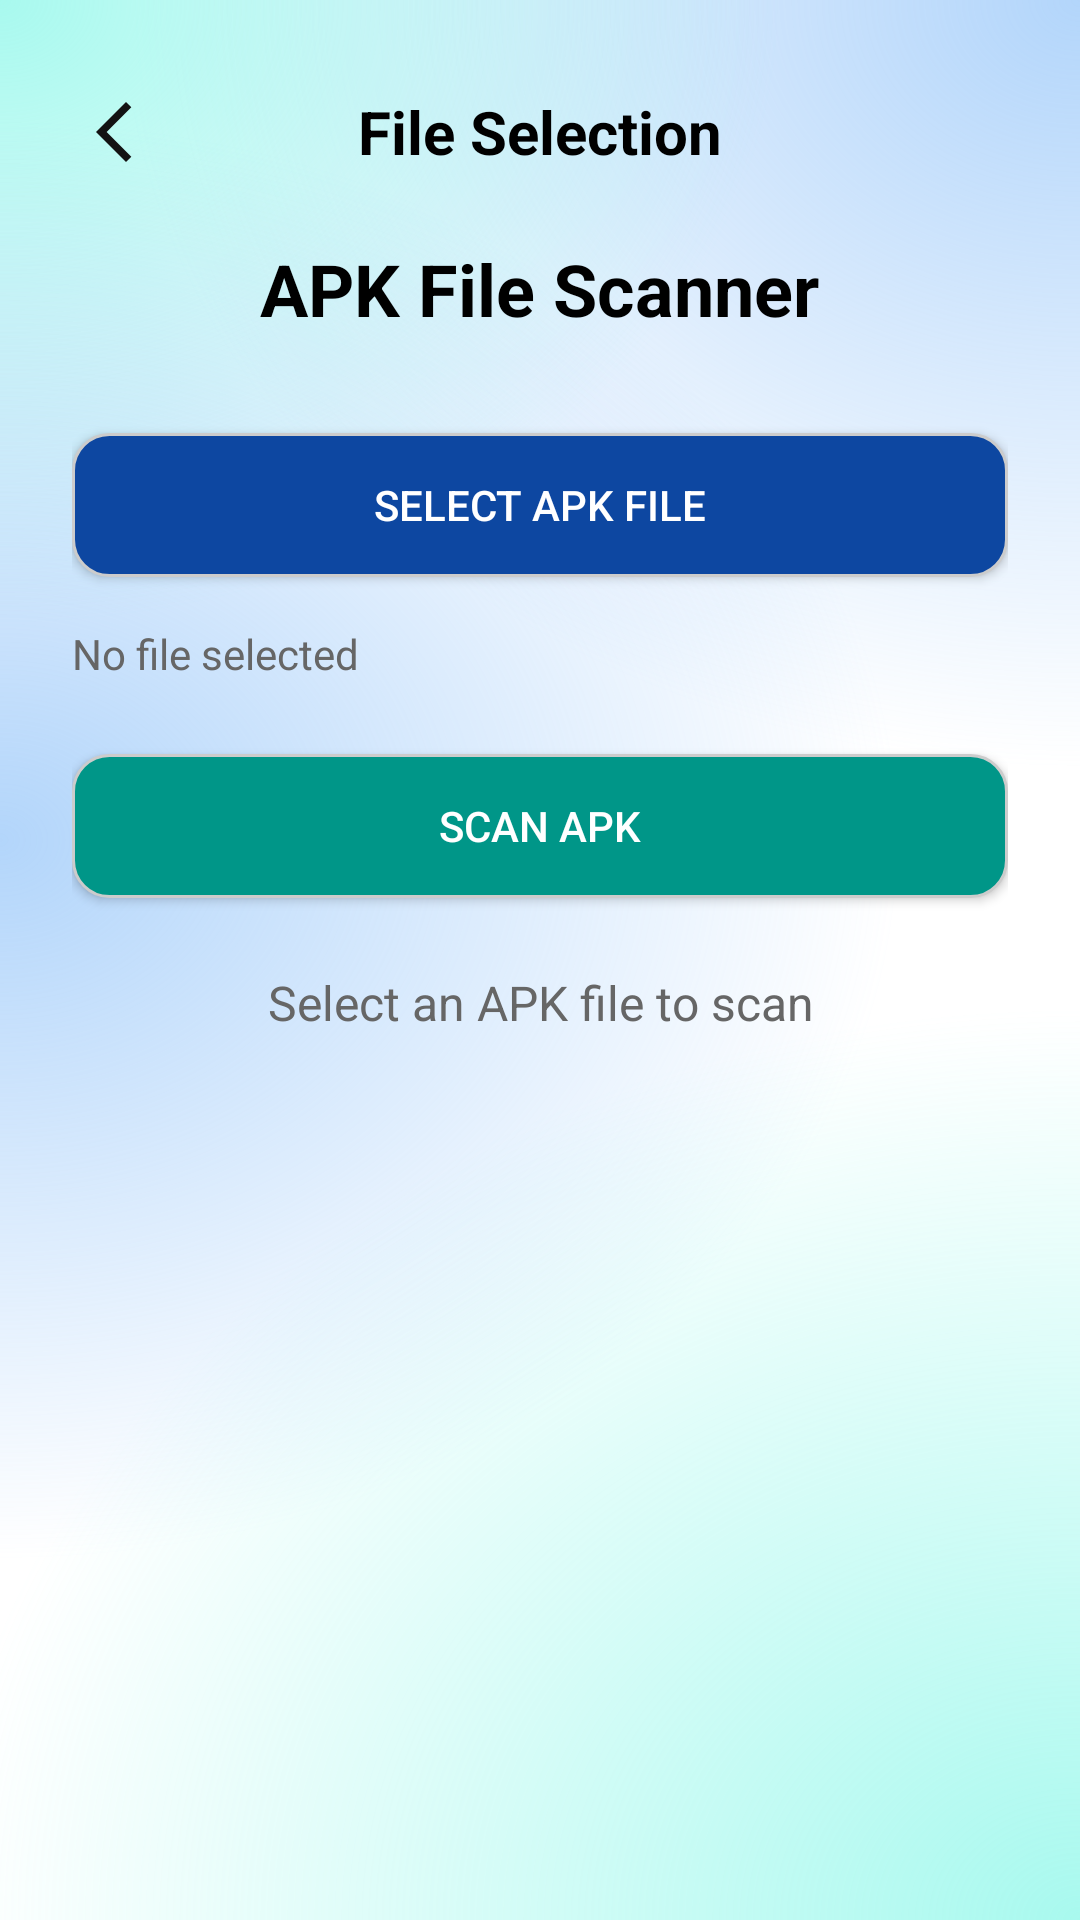

Icon click points for this 1080px x 1920px phone screenshot, format point (x, y):
arrow back: point (113, 132)
